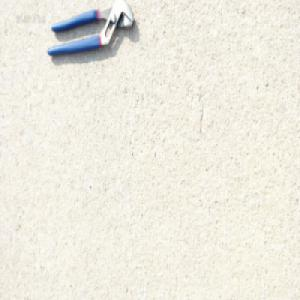Pliers: (45, 0, 135, 58)
